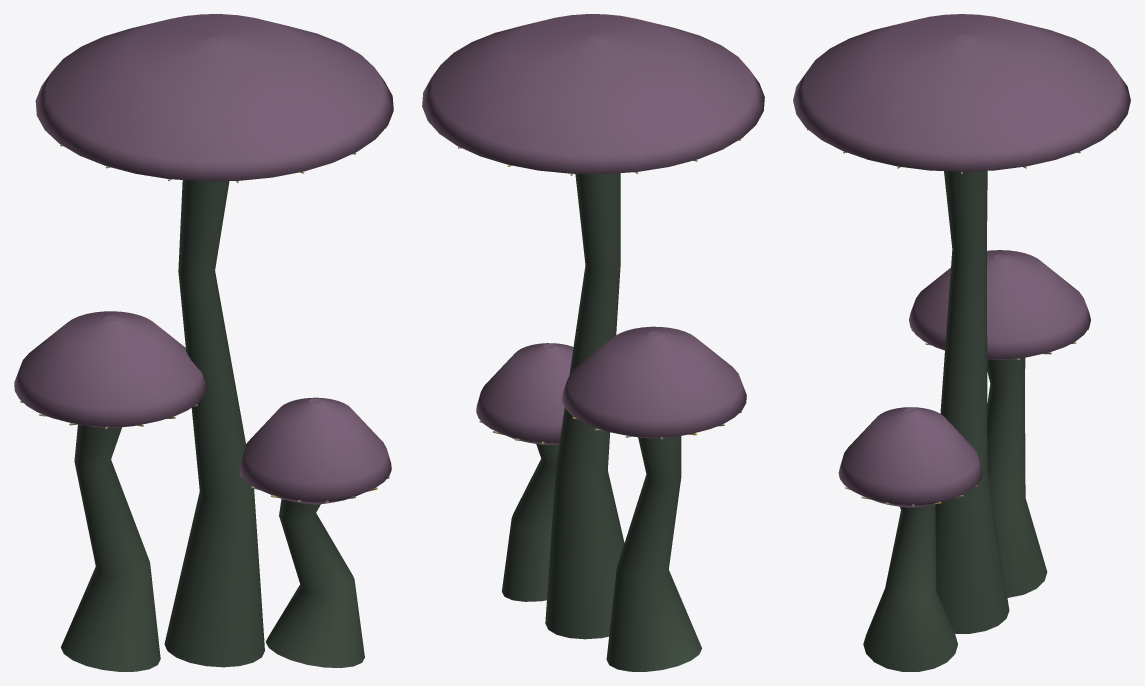
File: vista_xylo.glb
The picture shows the model from 3 angles, left to right: view 1: azimuth 30°, elevation 25°; view 2: azimuth 150°, elevation 25°; view 3: azimuth 270°, elevation 25°; orthographic projection. The views are drawn at different scales.
Visible parts, largest first — view 1: vista_xylo; view 2: vista_xylo; view 3: vista_xylo.
Boxes of the visible parts, x1=… form: vista_xylo: x1=14, y1=14, x2=393, y2=671; vista_xylo: x1=422, y1=14, x2=764, y2=671; vista_xylo: x1=793, y1=14, x2=1130, y2=671.
Size of the model in its own units: 18.5 by 33.78 by 17.8.
